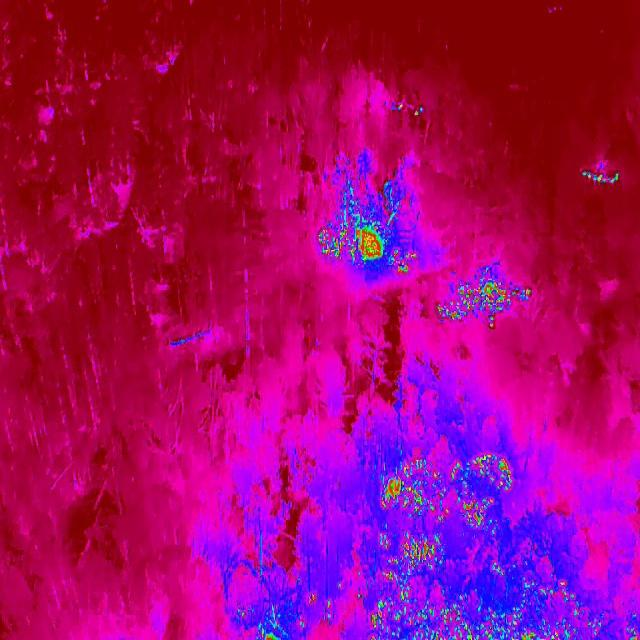fire: (360, 579, 602, 640), (380, 452, 515, 528), (316, 213, 420, 277), (435, 278, 534, 331), (379, 533, 442, 583), (577, 160, 622, 192), (255, 624, 282, 640), (491, 563, 508, 579), (412, 104, 423, 120), (394, 101, 404, 111), (629, 630, 639, 640), (308, 594, 317, 604), (240, 610, 247, 618), (326, 600, 331, 608)
